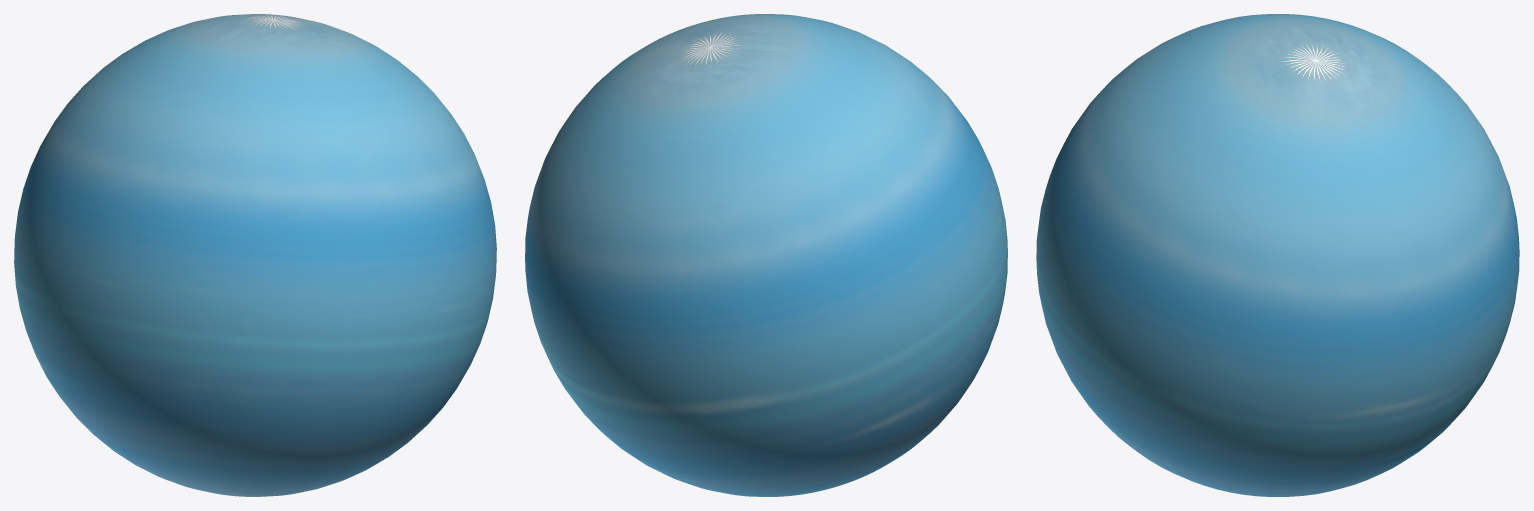
The model's file is uranus.fbx.
3 views of the same model, side by side, from view 1: azimuth 30°, elevation 25°; view 2: azimuth 150°, elevation 25°; view 3: azimuth 270°, elevation 25° (orthographic).
Visible parts, largest first — view 1: Sphere; view 2: Sphere; view 3: Sphere.
Boxes of the visible parts, x1,y1,x2,y2 form: Sphere: (14, 14, 496, 496); Sphere: (525, 14, 1007, 496); Sphere: (1036, 14, 1519, 496).
Size of the model in its own units: 200 by 200 by 200.
